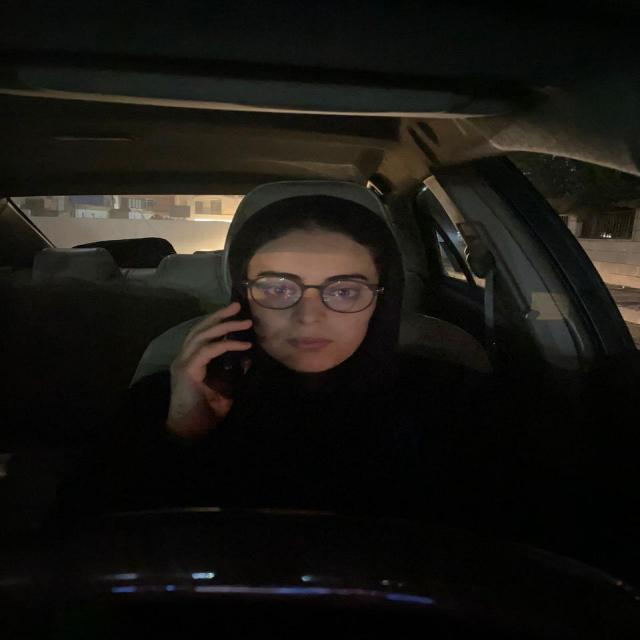mobile: (196, 286, 269, 404)
person: (245, 212, 396, 376)
